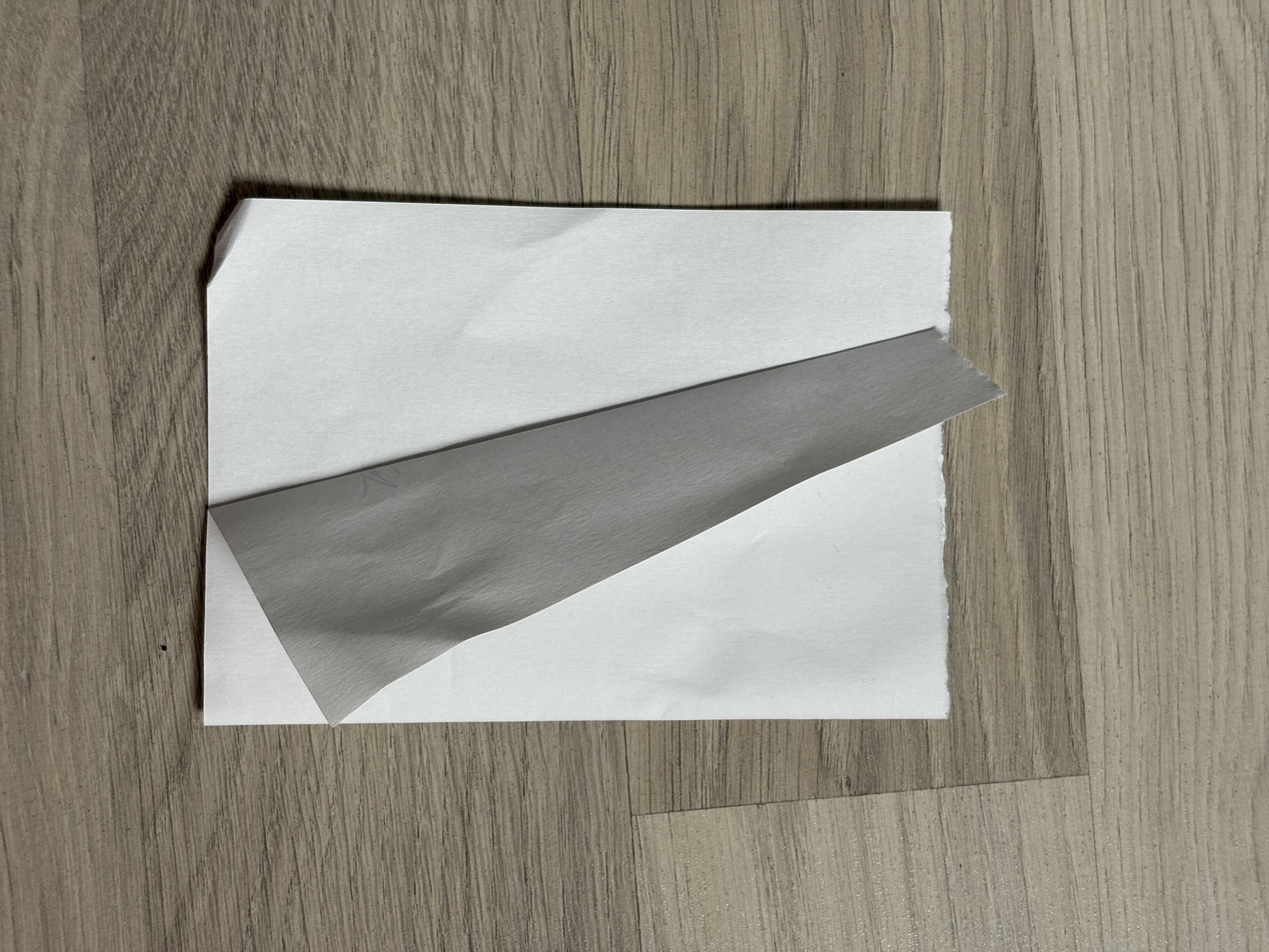paper: (198, 167, 1011, 730)
